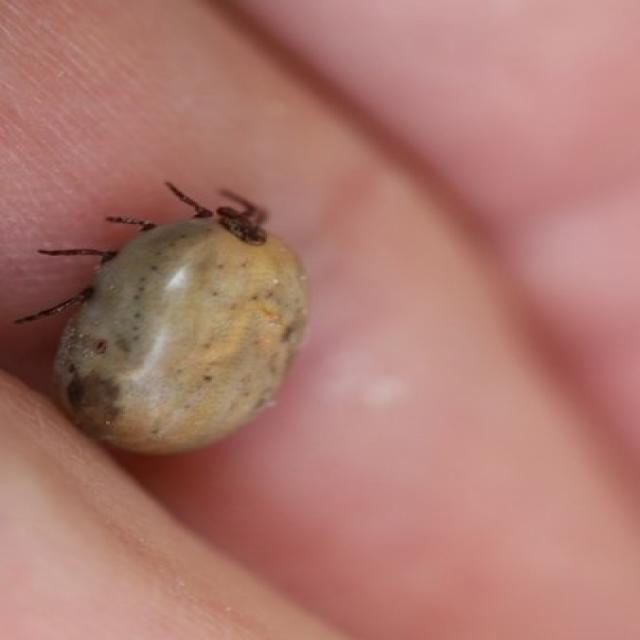Dermacentor Reticulatus-F-Fed: (15, 182, 312, 458)
